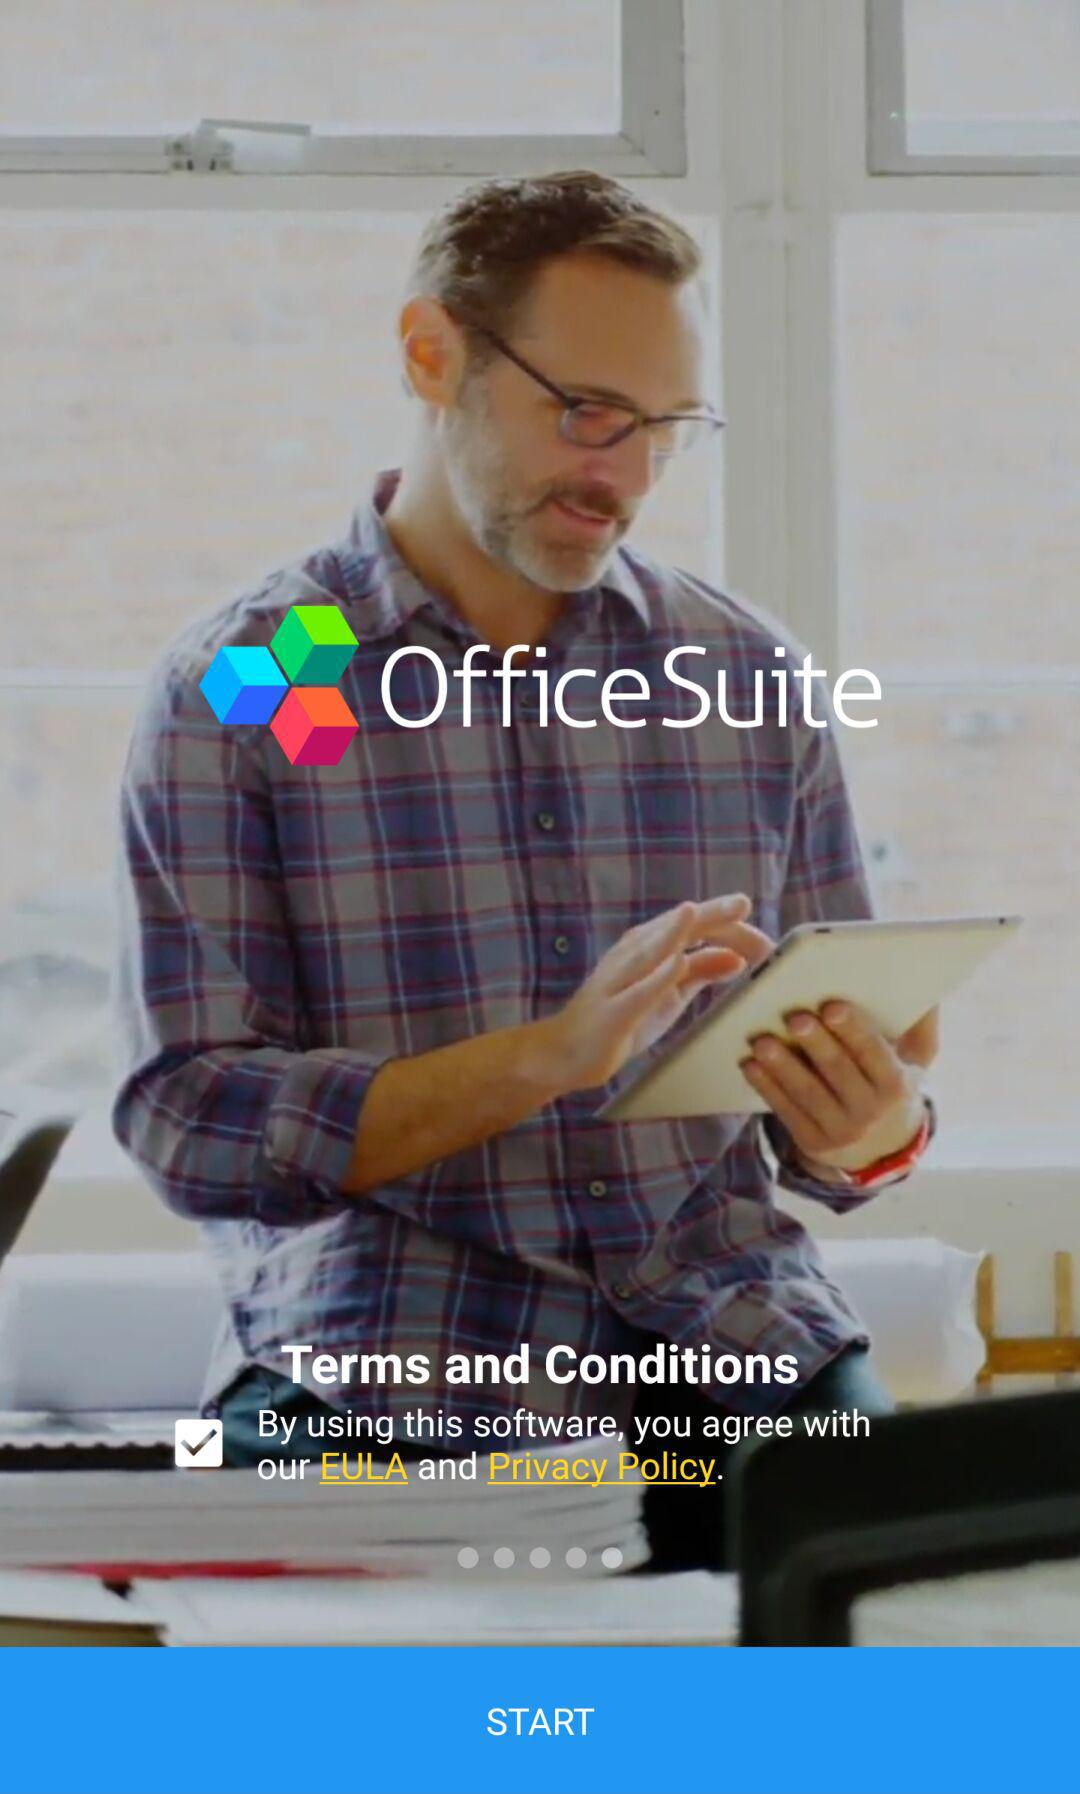BackgroundImage: (1, 1, 1080, 1647)
CheckedTextView: (174, 1406, 872, 1492)
Image: (196, 604, 884, 770)
PageIndicator: (456, 1545, 625, 1572)
Text: (258, 1406, 872, 1490), (281, 1340, 801, 1387)
TextButton: (1, 1647, 1080, 1794)
